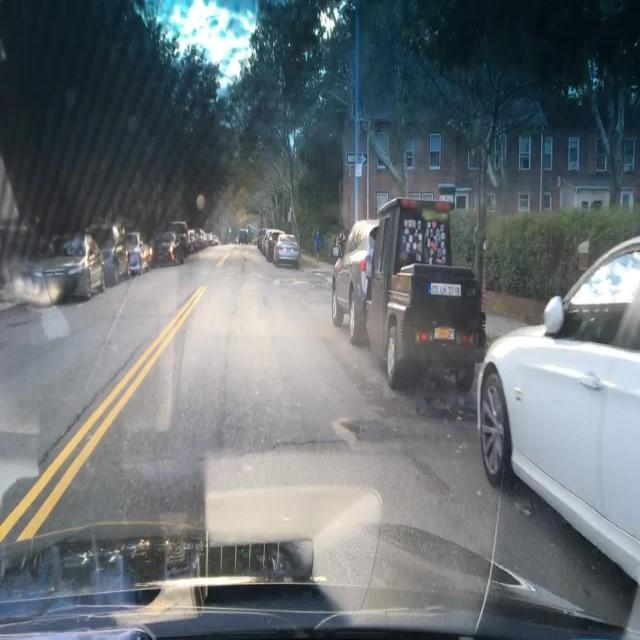normal: (476, 236, 640, 619), (320, 182, 513, 416), (21, 234, 103, 305), (91, 231, 121, 289), (266, 230, 301, 266), (152, 228, 186, 263), (124, 229, 151, 273)
